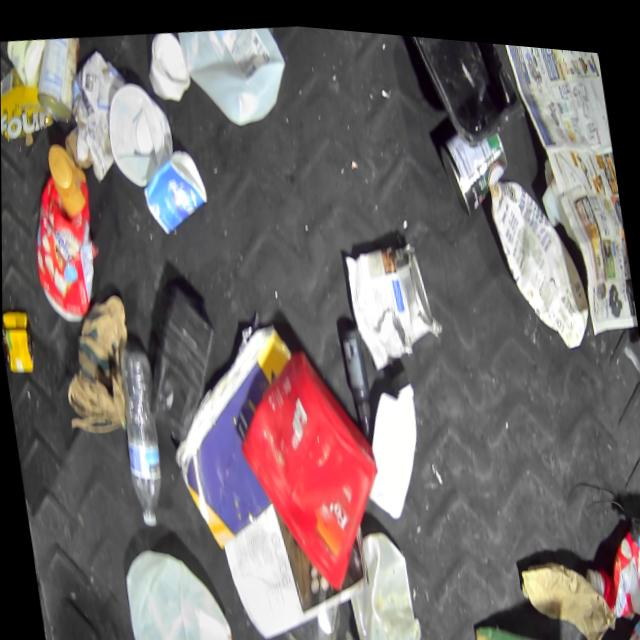can: (343, 226, 448, 372), (434, 116, 517, 219), (29, 33, 92, 130), (2, 305, 38, 378)
milk_jug: (177, 14, 296, 134), (120, 534, 238, 640)
non_white_jug: (226, 330, 396, 603), (487, 162, 594, 348), (19, 138, 108, 327)
plastic_bottle: (112, 340, 174, 529)
